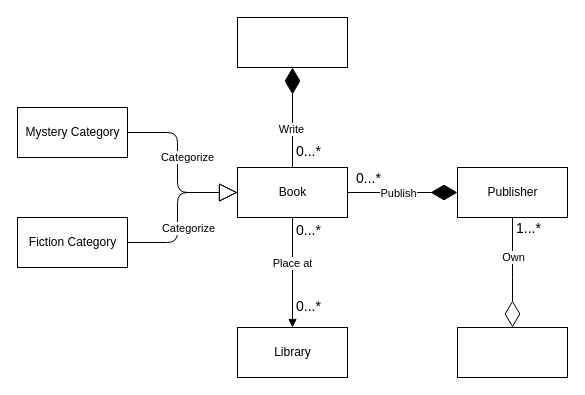
This 585x395 diagram has some shape labels left out. The centre of each missing label's shape, as x and y in pixels:
Author: [292,42]
Owner: [512,352]
